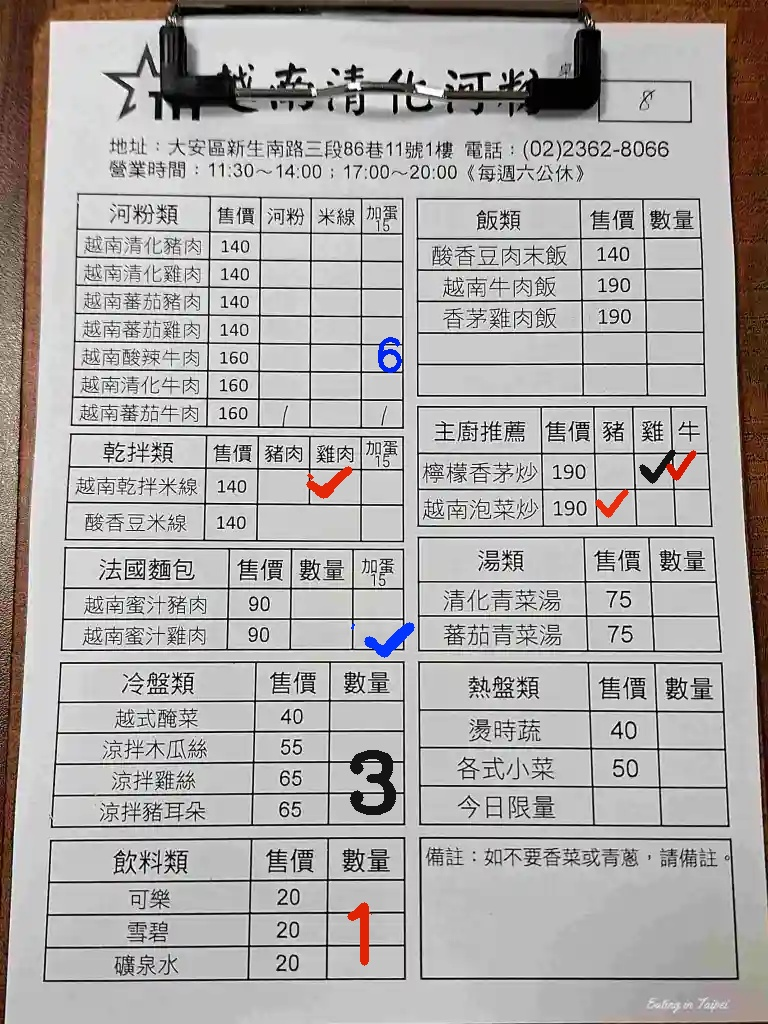marked_number_1: (333, 914, 402, 949)
marked_number_3: (332, 761, 401, 796)
marked_number_6: (361, 342, 401, 372)
marked_tick: (309, 469, 361, 502), (352, 616, 404, 649), (597, 488, 637, 525), (633, 452, 673, 489), (671, 452, 711, 489)
